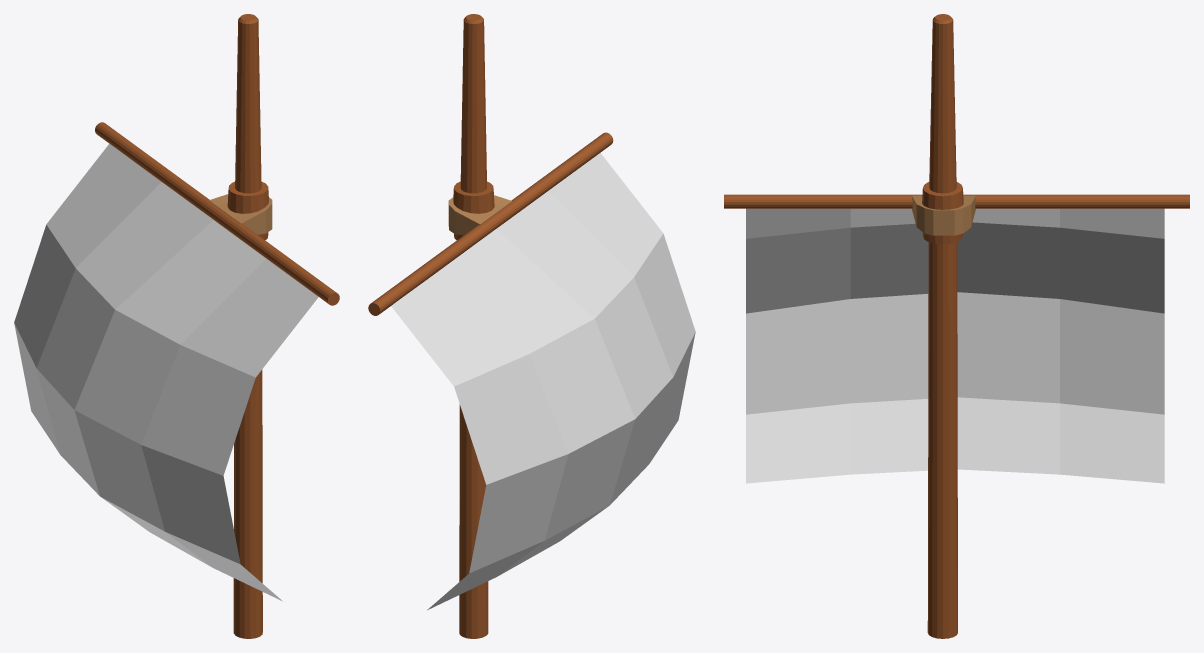
Rendered from Mast.fbx.
3 views of the same model, side by side, from view 1: azimuth 30°, elevation 25°; view 2: azimuth 150°, elevation 25°; view 3: azimuth 270°, elevation 25° (orthographic).
Parts seen in each view (by area): view 1: Mast; view 2: Mast; view 3: Mast.
Part boxes in pixels (left/top/right/bottom): Mast: left=14, top=14, right=339, bottom=638; Mast: left=368, top=14, right=695, bottom=638; Mast: left=724, top=14, right=1189, bottom=638.
Bounding box in the file's own units: 455 × 1432 × 983.
